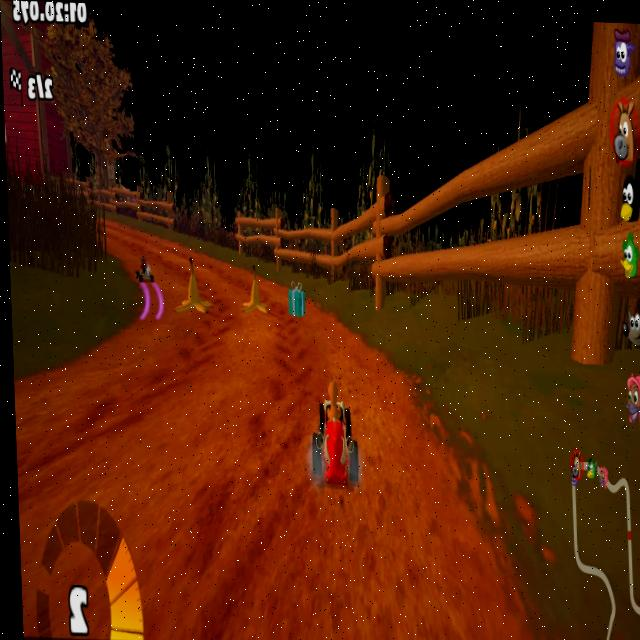bonus: (287, 279, 306, 321)
enemy_kart: (137, 259, 159, 286)
obstacle: (177, 260, 214, 322), (243, 268, 263, 313)
track: (140, 499, 494, 640), (18, 383, 298, 499), (107, 321, 352, 408), (18, 488, 143, 638), (359, 401, 449, 506), (135, 290, 178, 333), (349, 355, 393, 396), (109, 237, 180, 261), (217, 265, 239, 325), (98, 221, 138, 244), (266, 287, 284, 324)
